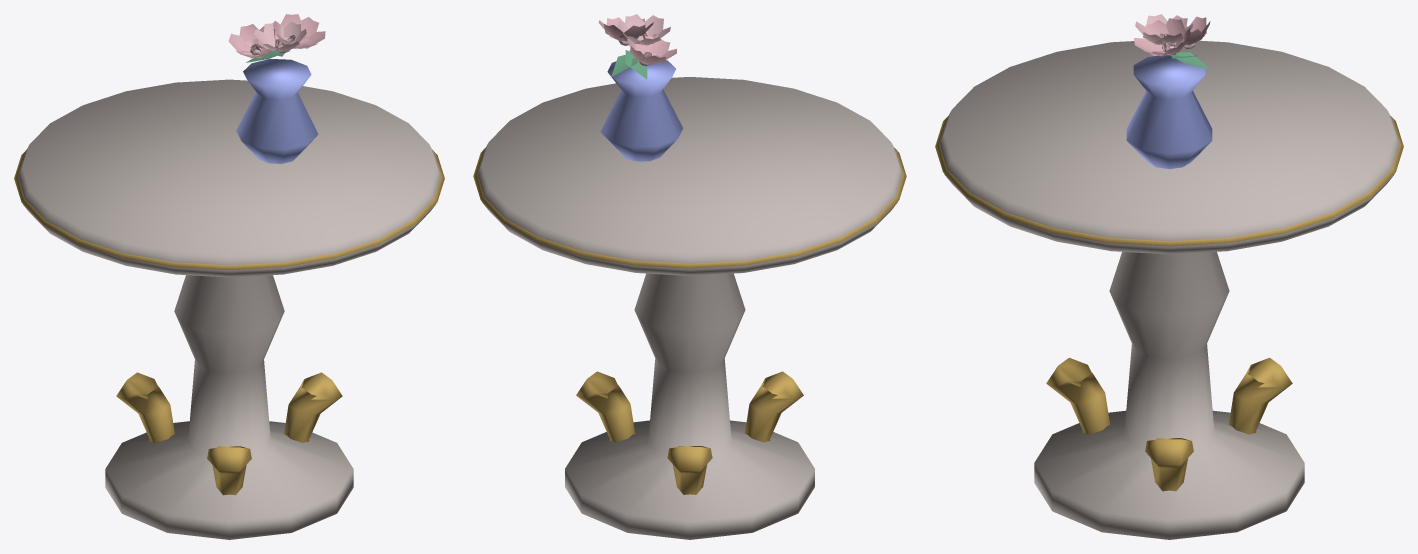
The model's file is table_side.glb.
3 renders of one model, left to right at view 1: azimuth 30°, elevation 25°; view 2: azimuth 150°, elevation 25°; view 3: azimuth 270°, elevation 25°, orthographic. The views are drawn at different scales.
Visible parts, largest first — view 1: table_side; view 2: table_side; view 3: table_side.
Part boxes in pixels (<box>): table_side: <box>14,14,444,539</box>; table_side: <box>473,14,906,539</box>; table_side: <box>935,14,1403,539</box>.
Size of what is drawn, in the model's own units: 0.6 by 0.7 by 0.6.
